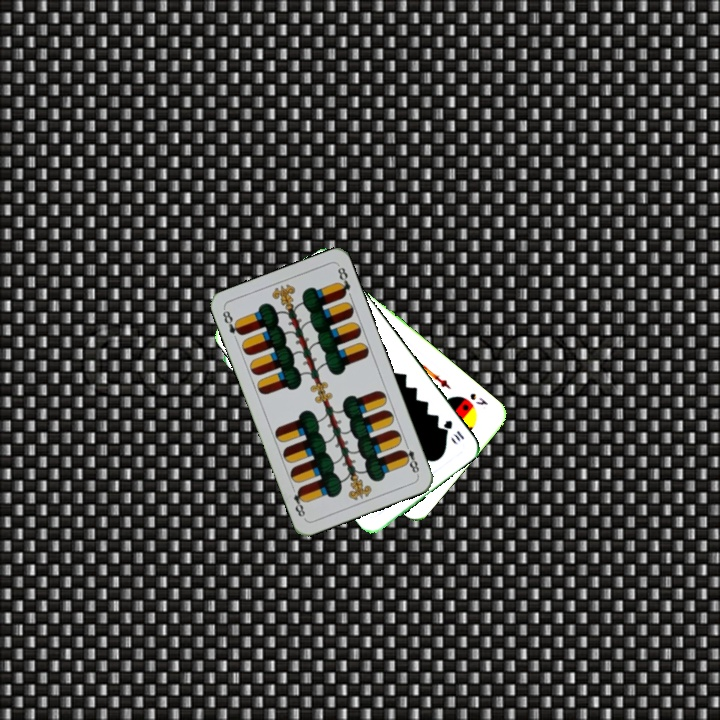E8: (397, 438, 422, 478), (218, 306, 245, 338)
G10: (439, 416, 467, 443)
SK: (466, 389, 491, 408)
